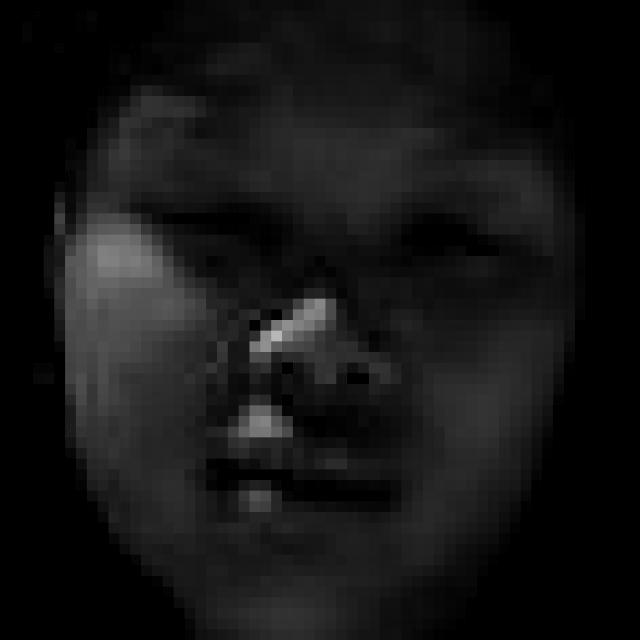real: (48, 46, 575, 628), (134, 152, 544, 300)
